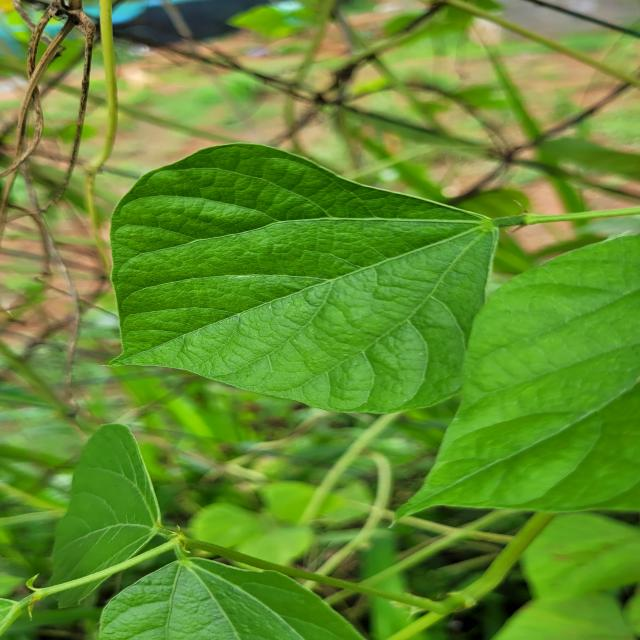Dolicos bean_healthy: (119, 146, 497, 421), (412, 235, 640, 516), (31, 412, 172, 610), (106, 535, 368, 640), (525, 502, 640, 604)
